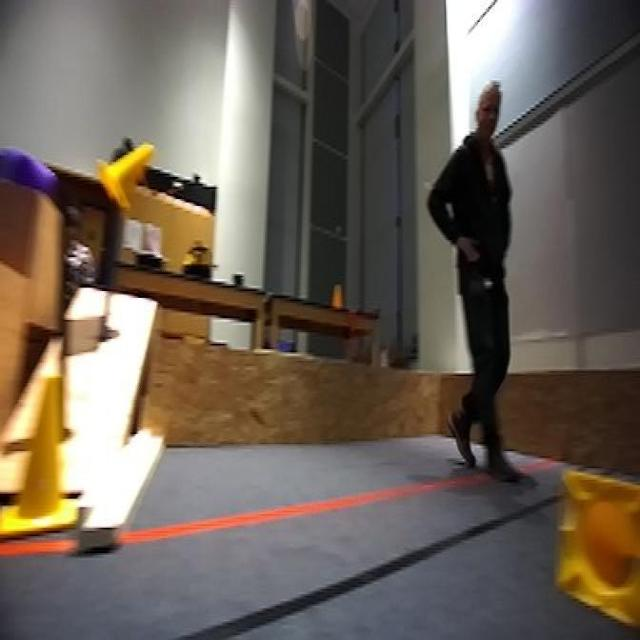frc_cone: (552, 461, 640, 630), (2, 373, 76, 531), (97, 141, 156, 211)
frc_cube: (0, 143, 58, 191)
